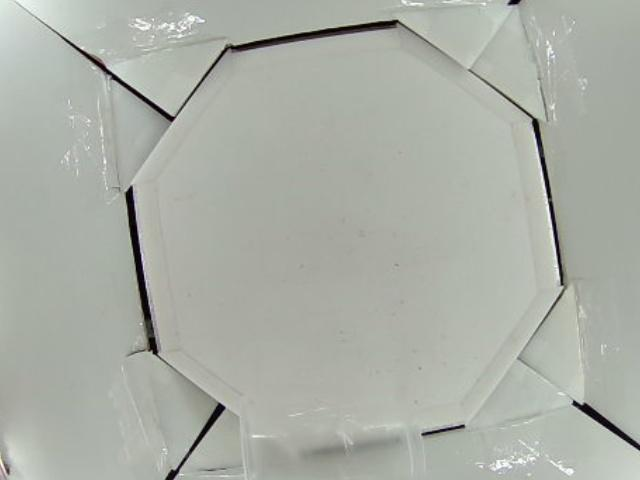Cup: (238, 398, 424, 478)
